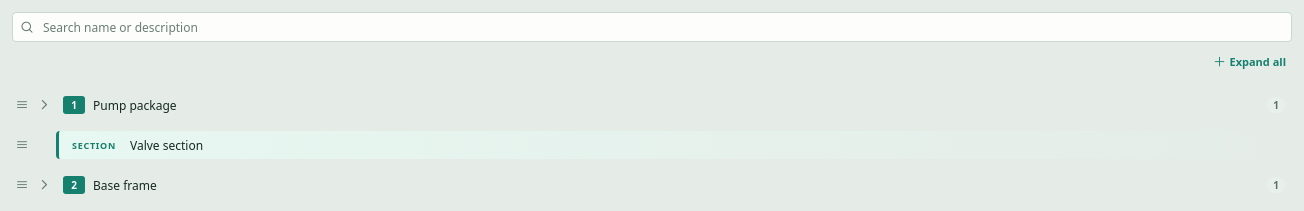
QuotationNavigator › matches descriptions and shows the matching snippet only while searching
Type "steel" into the search field with class "navigator-search-input" at (666, 27), box [41,13,1291,41]
Wait 130 ms
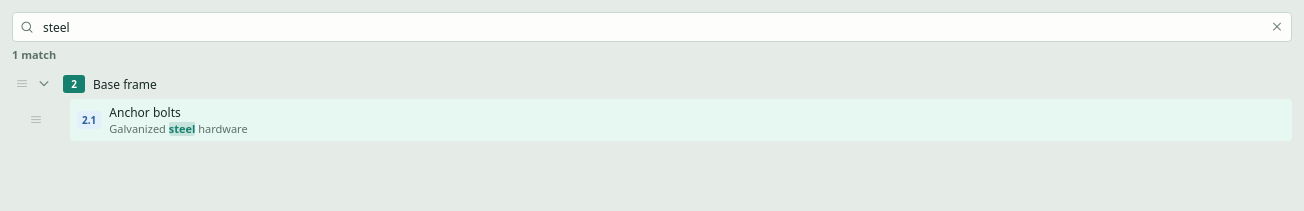
Check: the text with class "navigator-search-count" reads "1 match", box [12,47,56,62]
Check: the number of elements with class "nav-row" is 2, box [12,70,1292,98]; [12,99,1292,141]
Check: the navigation bar with class "navigator" shows "Anchor bolts", box [70,99,1292,141]
